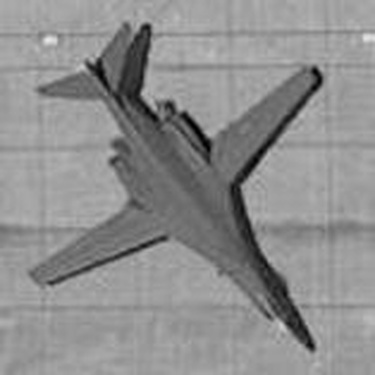airplane: (17, 6, 328, 357)
